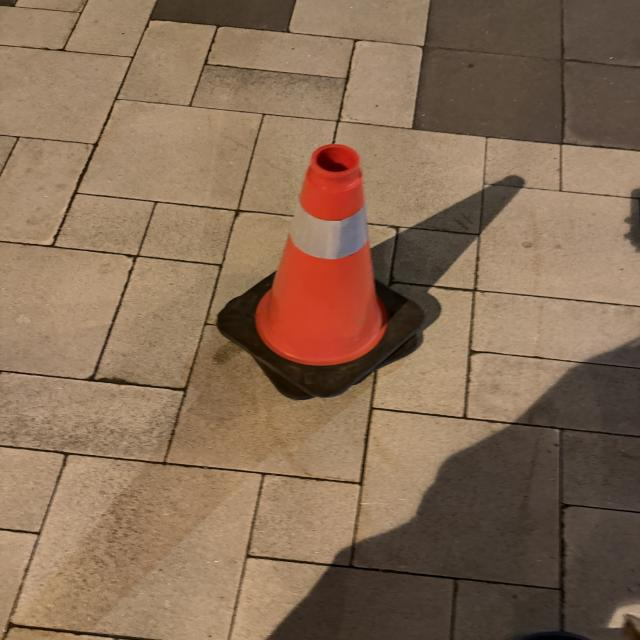Traffic Cone: (216, 142, 426, 398)
